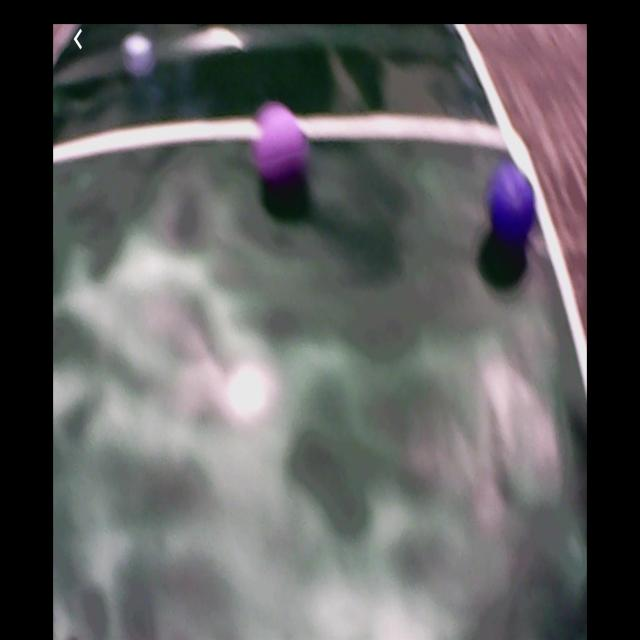ball: (255, 107, 308, 185), (489, 169, 537, 239)
